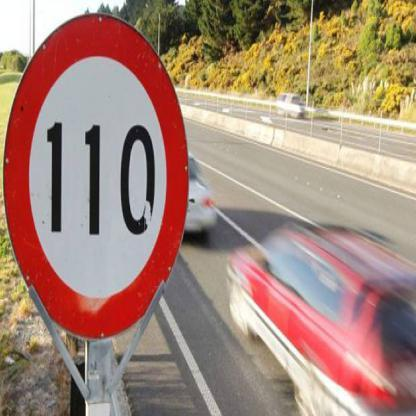Speed Limit 100: (6, 15, 183, 335)
